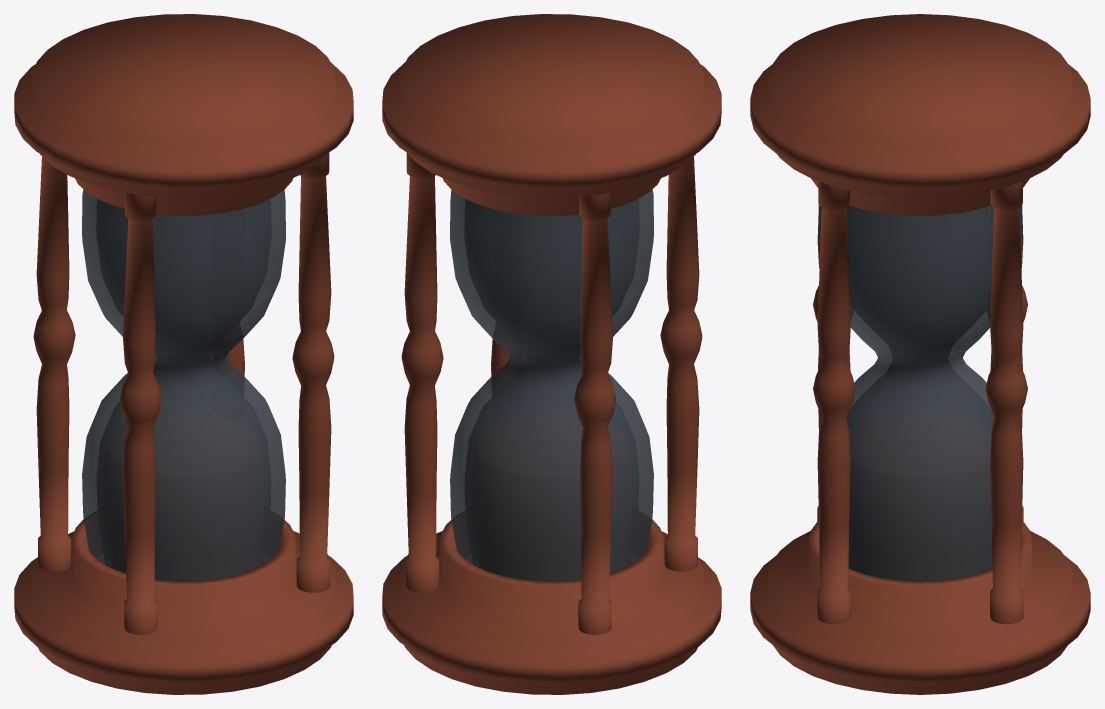
Rendered from hourglass1_01 1.FBX.
3 renders of one model, left to right at view 1: azimuth 30°, elevation 25°; view 2: azimuth 150°, elevation 25°; view 3: azimuth 270°, elevation 25°, orthographic.
Parts seen in each view (by area): view 1: base_low; view 2: base_low; view 3: base_low.
Part boxes in pixels (left/top/right/bottom): base_low: left=14, top=14, right=353, bottom=694; base_low: left=382, top=14, right=721, bottom=694; base_low: left=750, top=14, right=1090, bottom=694.
Bounding box in the file's own units: 17.87 × 31.98 × 17.87.
